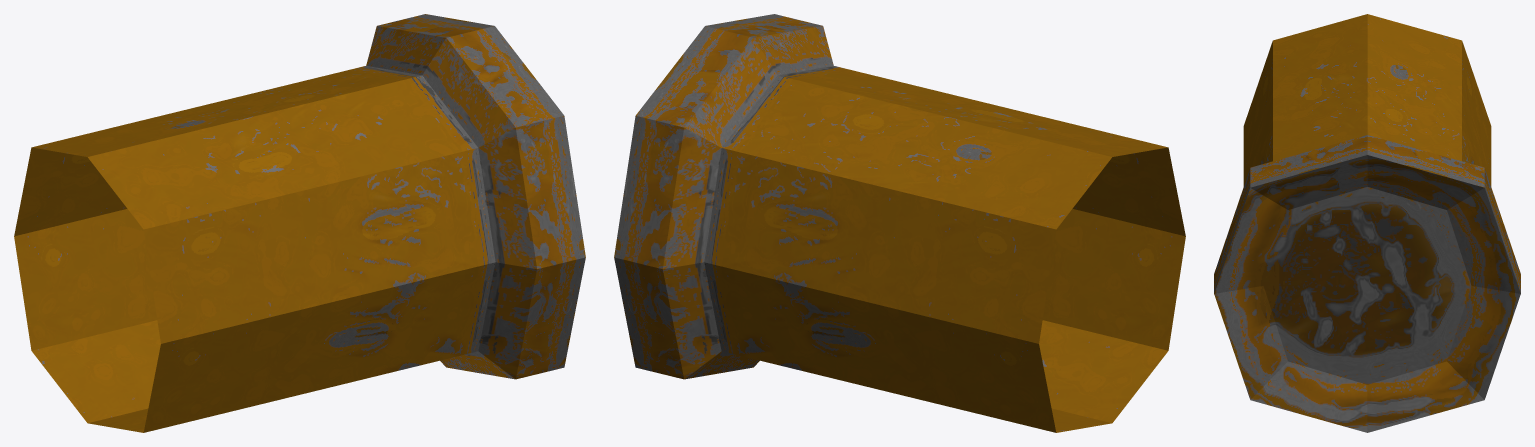
The model's file is pipe_big_pipe.fbx.
3 views of the same model, side by side, from view 1: azimuth 30°, elevation 25°; view 2: azimuth 150°, elevation 25°; view 3: azimuth 270°, elevation 25° (orthographic). The views are drawn at different scales.
Parts seen in each view (by area): view 1: Cube.012; view 2: Cube.012; view 3: Cube.012.
Part boxes in pixels (x1,y1,x2,y2): Cube.012: (14, 14, 585, 432); Cube.012: (614, 14, 1185, 432); Cube.012: (1214, 14, 1520, 432).
Size of the model in its own units: 320 by 248 by 248.
